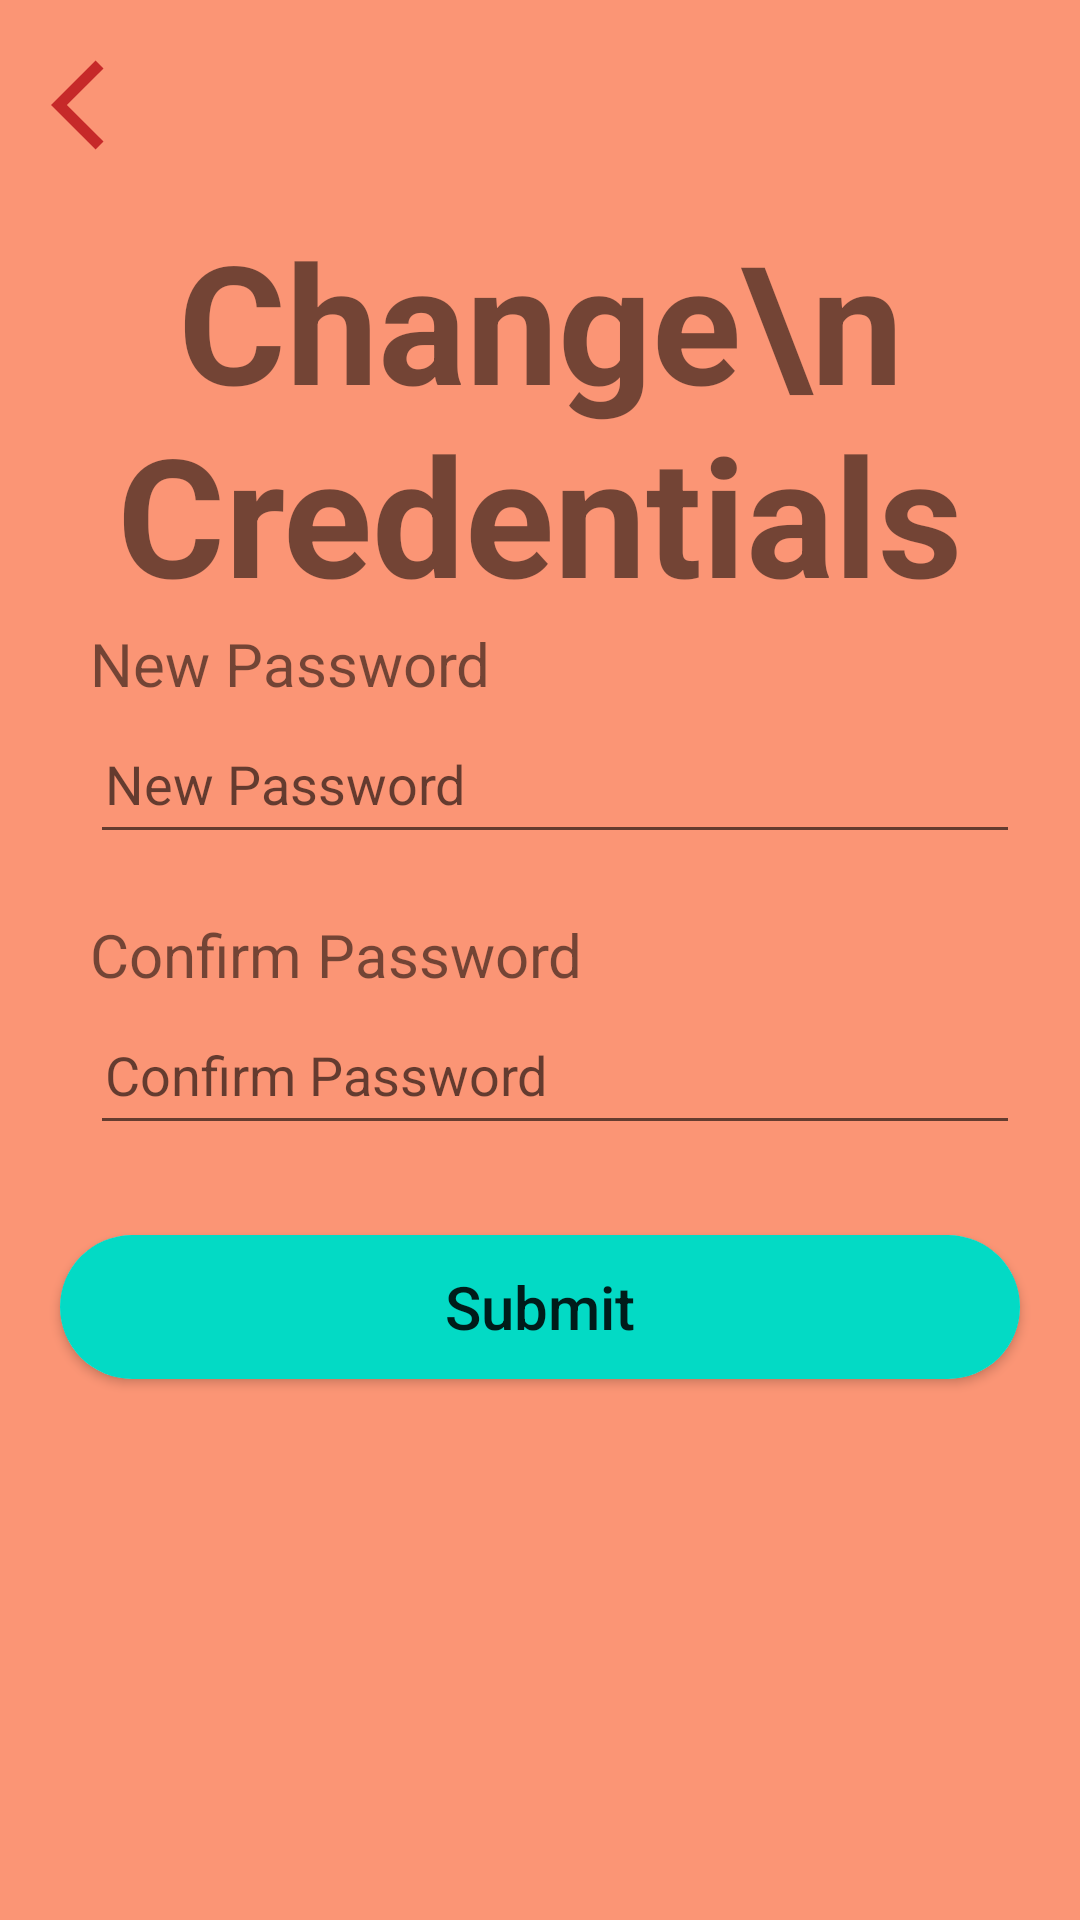

Screen size 1080px x 1920px. Icon name, then its center in pixels as [x,y]:
back: [77,105]
